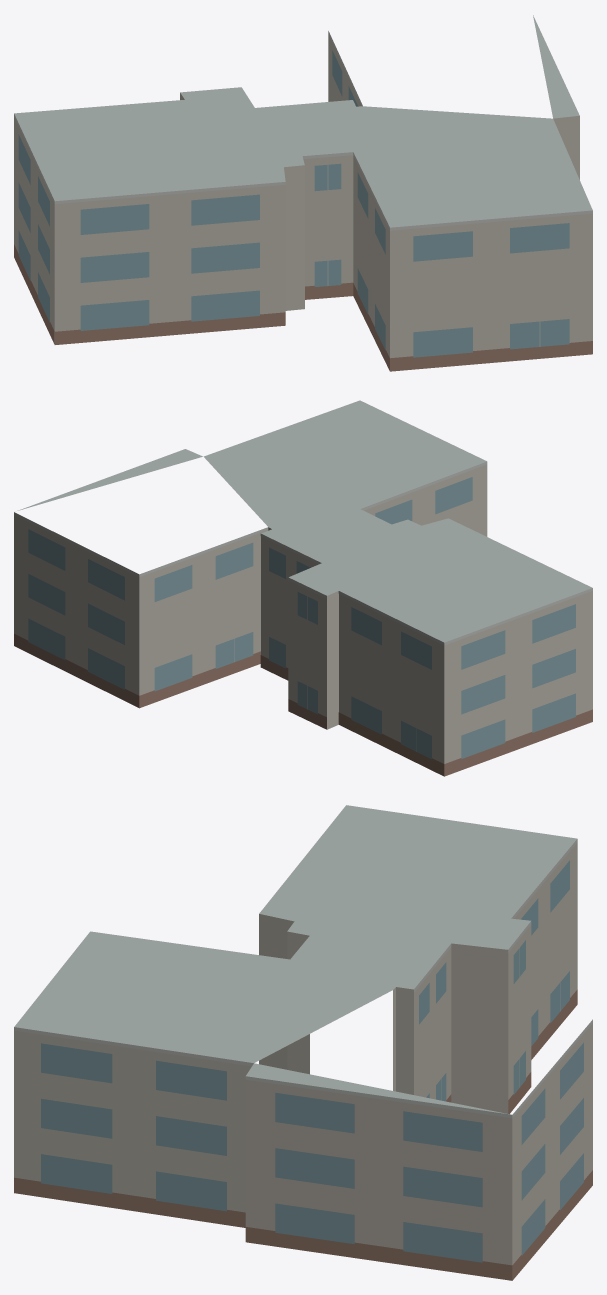
The model's file is survey-upis-32598199.glb.
3 renders of one model, top to bottom at view 1: azimuth 30°, elevation 25°; view 2: azimuth 150°, elevation 25°; view 3: azimuth 270°, elevation 25°, orthographic. The views are drawn at different scales.
Parts seen in each view (by area): view 1: survey-upis-32598199.tmp; view 2: survey-upis-32598199.tmp; view 3: survey-upis-32598199.tmp.
Boxes of the visible parts, <box> form: survey-upis-32598199.tmp: <box>14,15,592,371</box>; survey-upis-32598199.tmp: <box>14,400,592,776</box>; survey-upis-32598199.tmp: <box>14,805,592,1280</box>.
Bounding box in the file's own units: 46 × 11.5 × 36.34.
